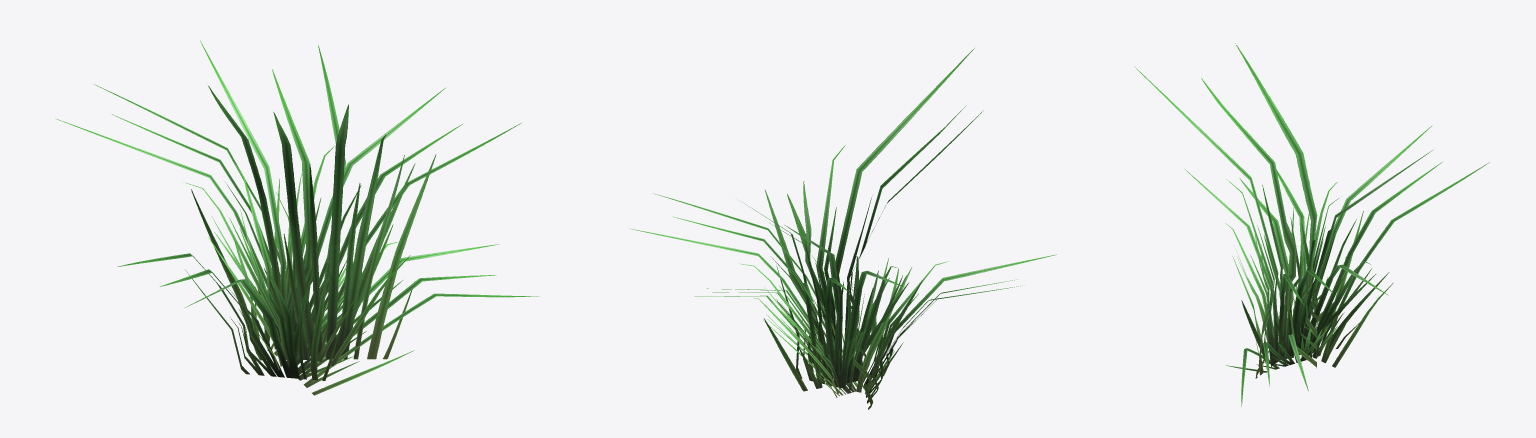
File: flowerplant3_lod1.fbx
3 renders of one model, left to right at view 1: azimuth 30°, elevation 25°; view 2: azimuth 150°, elevation 25°; view 3: azimuth 270°, elevation 25°, orthographic. The views are drawn at different scales.
Parts seen in each view (by area): view 1: Mesh Object; view 2: Mesh Object; view 3: Mesh Object.
Boxes of the visible parts, x1,y1,x2,y2 form: Mesh Object: [55, 40, 538, 395]; Mesh Object: [630, 48, 1056, 409]; Mesh Object: [1134, 43, 1488, 406].
Bounding box in the file's own units: 2.93 × 2.25 × 2.71.
